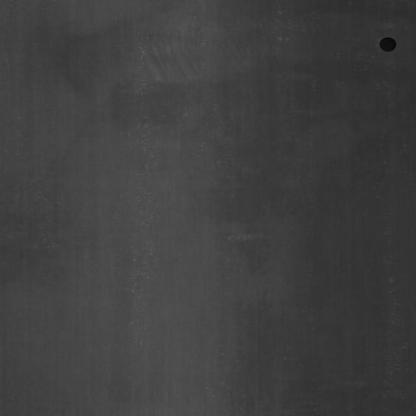punching_hole: (376, 31, 398, 57)
